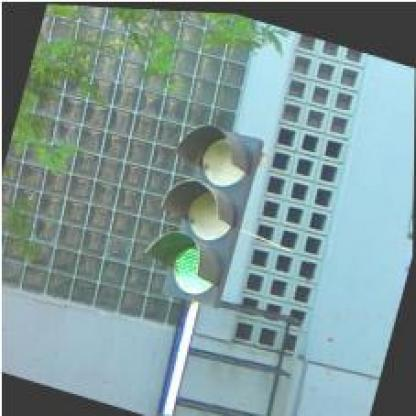green: (138, 111, 262, 303)
